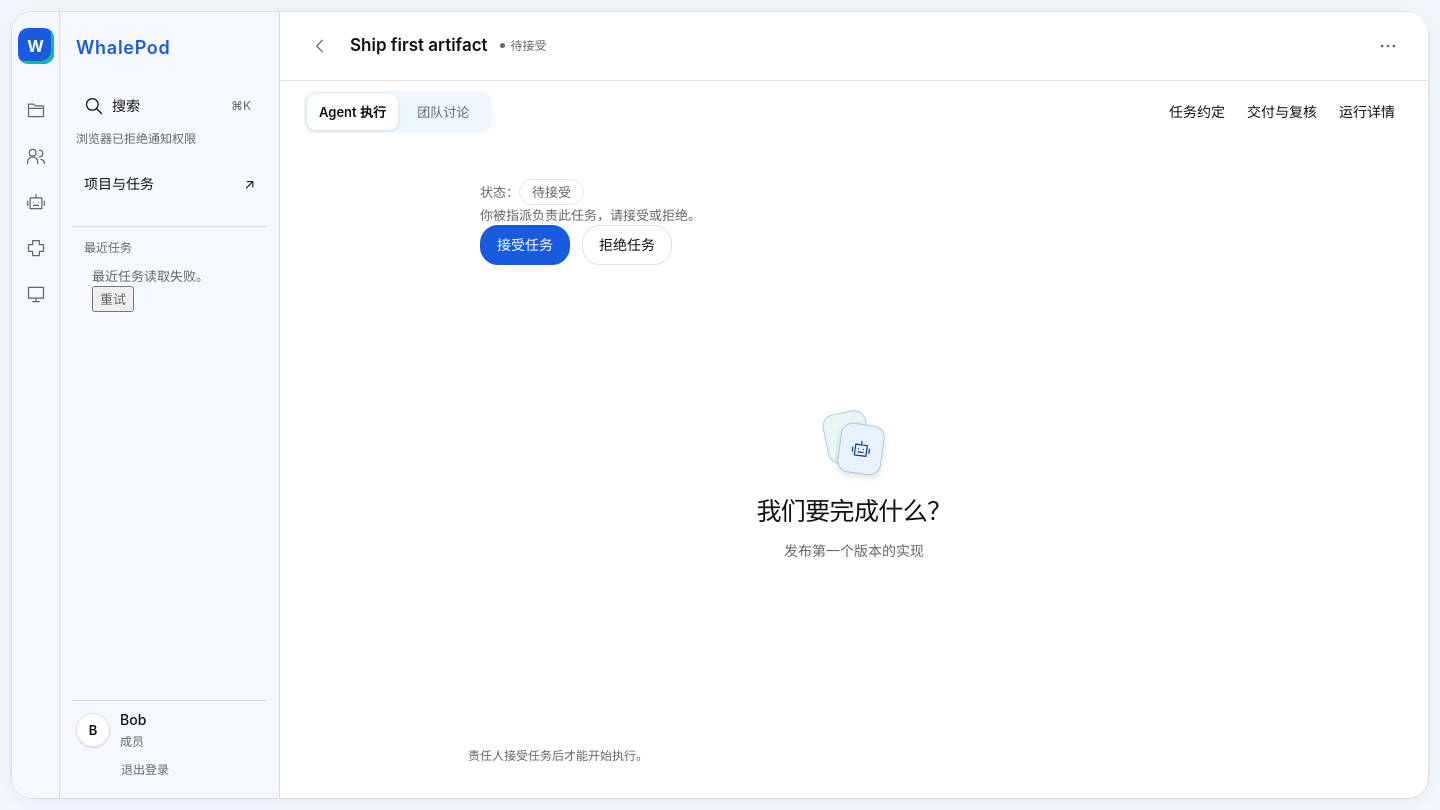
task-room › 渲染中间讨论区：留言输入与空态
The image size is (1440, 810).
Click the button "团队讨论". click: [443, 112]
box: [398,94,489,130]
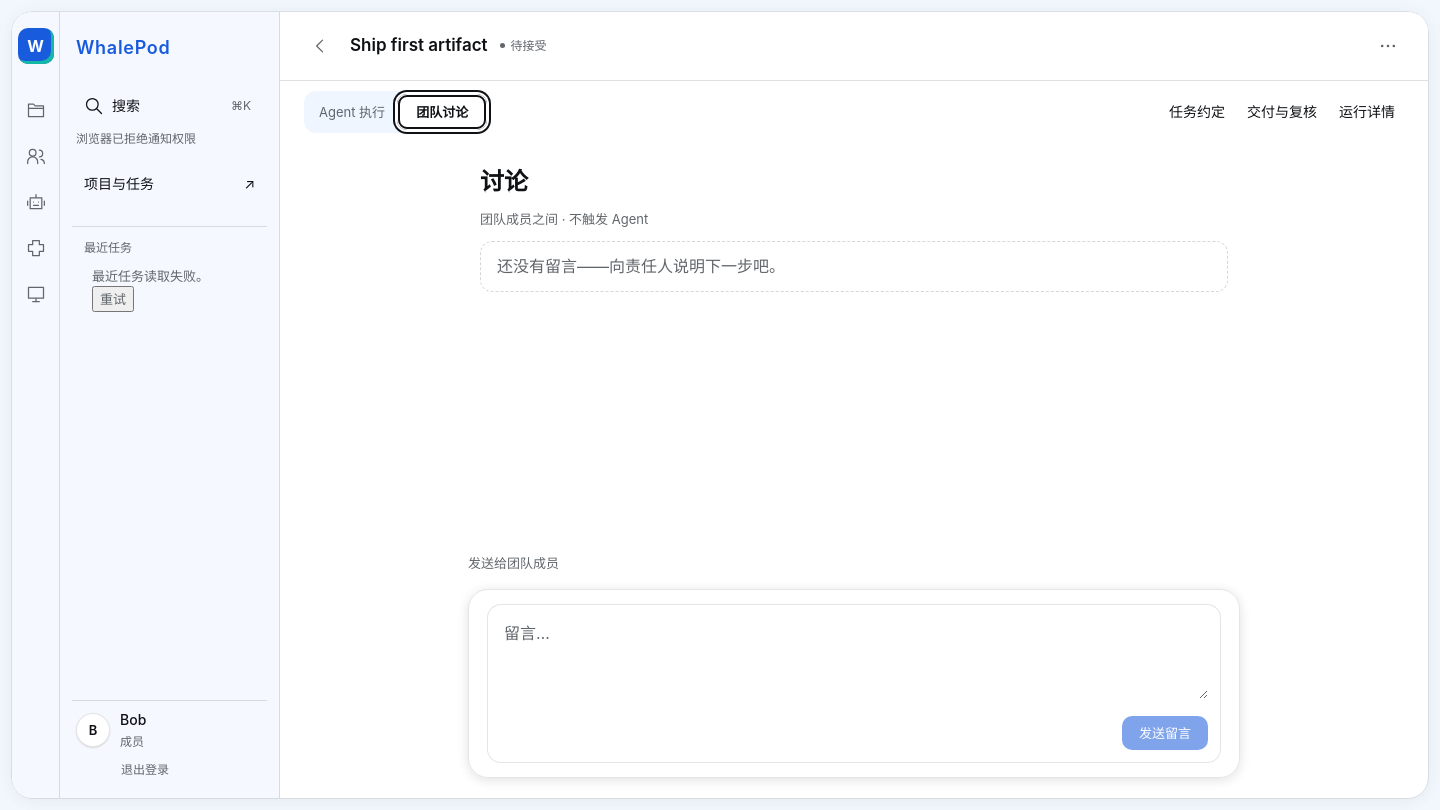
Now the heading "讨论" is shown, box [480,167,528,196]
Now the text box labelled "留言" is shown, box [500,617,1208,699]
Now the text "还没有留言——向责任人说明下一步吧。" is shown, box [480,241,1228,292]
